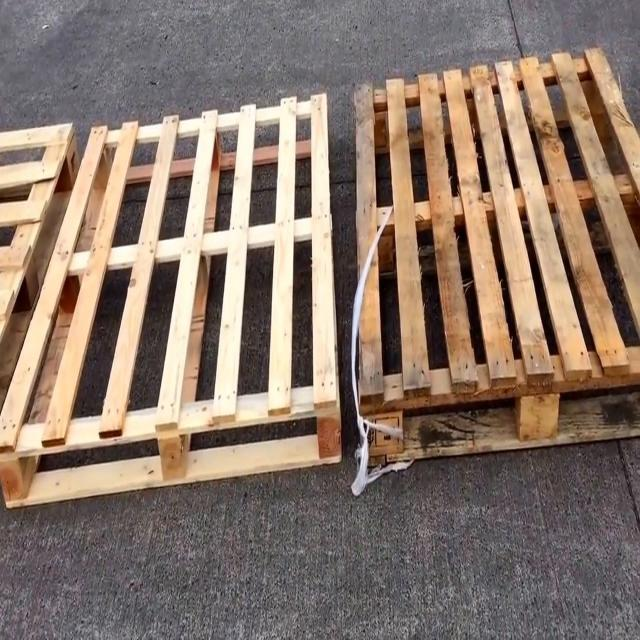Palette: (0, 90, 345, 512), (357, 41, 640, 485), (0, 118, 85, 410)
